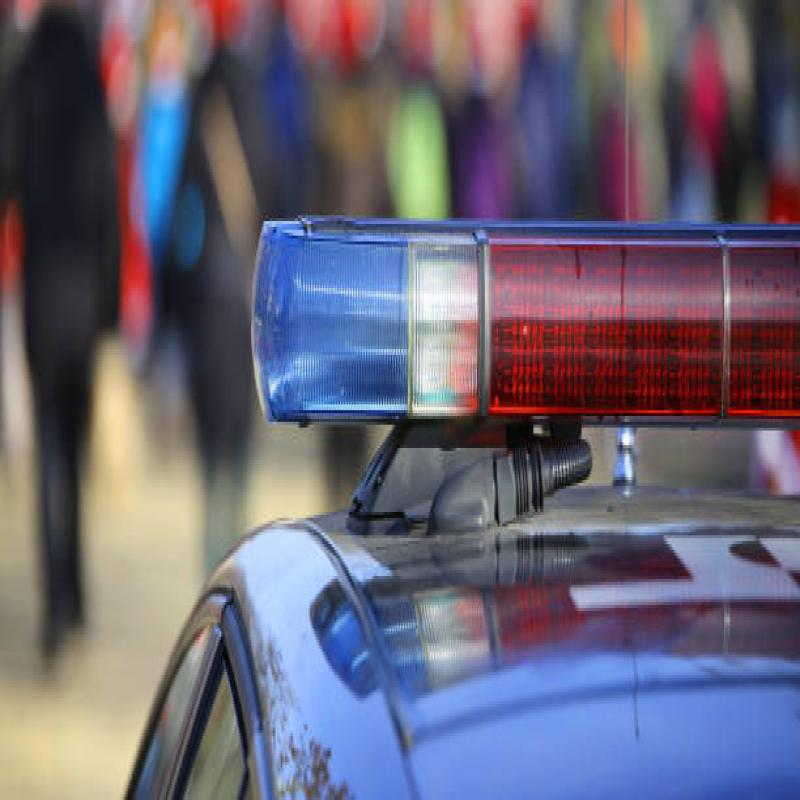AmbulanceSiren: (239, 174, 800, 422)
